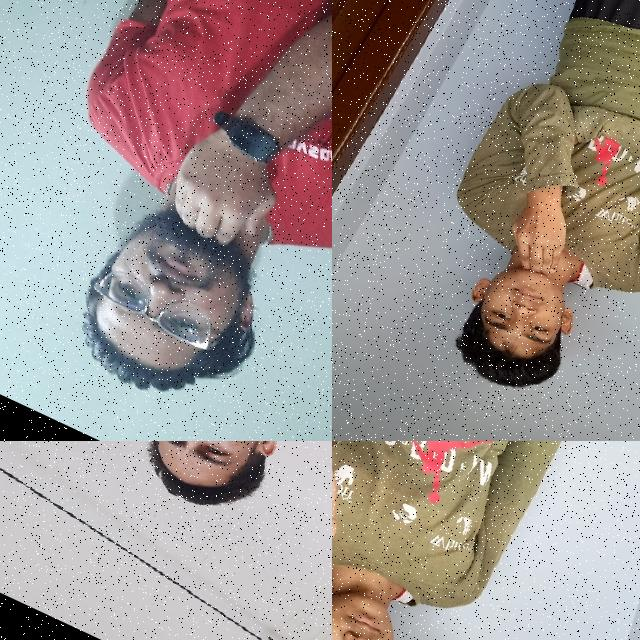Chin Flick: (72, 102, 318, 408), (429, 160, 640, 410), (111, 441, 332, 540)
Okay: (332, 441, 388, 599)
